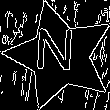N_S: (38, 30, 82, 82)
